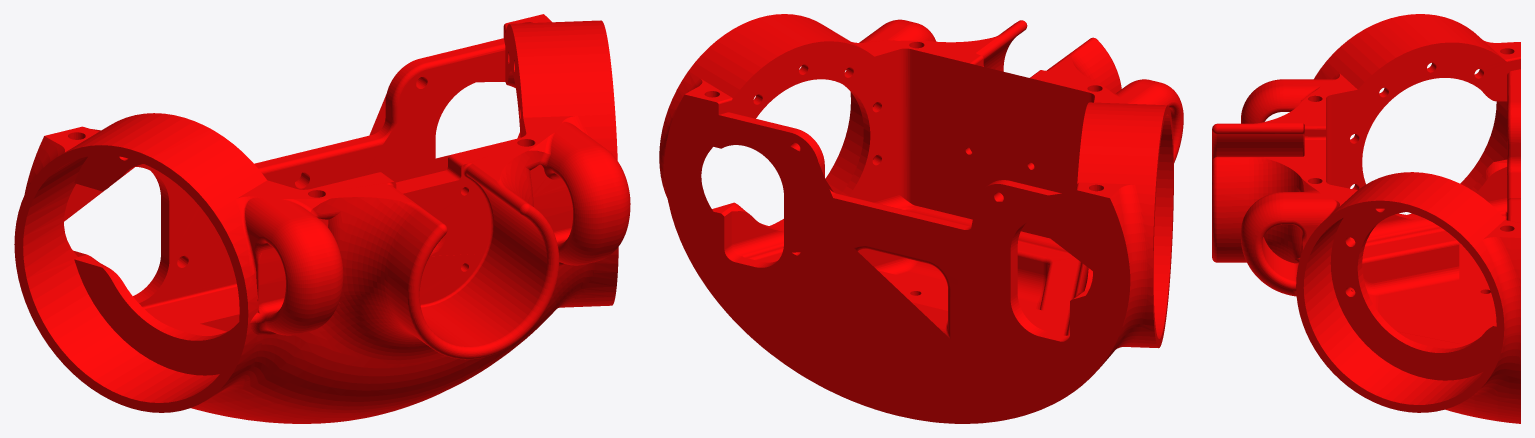
The model's file is torso_1_top_torso_1.glb.
3 renders of one model, left to right at view 1: azimuth 30°, elevation 25°; view 2: azimuth 150°, elevation 25°; view 3: azimuth 270°, elevation 25°, orthographic. The views are drawn at different scales.
Parts seen in each view (by area): view 1: torso_1_top_torso_1.obj; view 2: torso_1_top_torso_1.obj; view 3: torso_1_top_torso_1.obj.
Boxes of the visible parts, x1,y1,x2,y2 form: torso_1_top_torso_1.obj: (14,14,630,423); torso_1_top_torso_1.obj: (659,14,1183,423); torso_1_top_torso_1.obj: (1212,14,1520,423).
Bounding box in the file's own units: 0.2532 × 0.148 × 0.1451.
